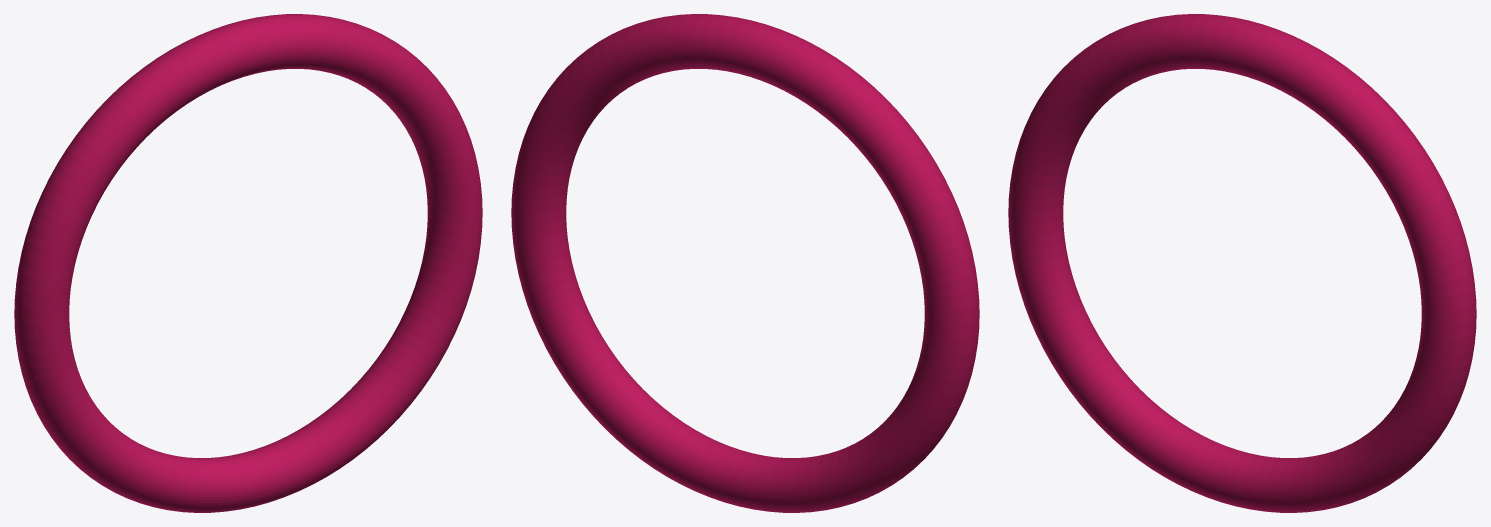
3 views of the same model, side by side, from view 1: azimuth 30°, elevation 25°; view 2: azimuth 150°, elevation 25°; view 3: azimuth 330°, elevation 25° (orthographic).
Parts seen in each view (by area): view 1: world; view 2: world; view 3: world.
Boxes of the visible parts, x1,y1,x2,y2 form: world: (14, 14, 482, 512); world: (511, 14, 979, 512); world: (1008, 14, 1476, 512).
Bounding box in the file's own units: 29.73 × 29.73 × 3.06.
